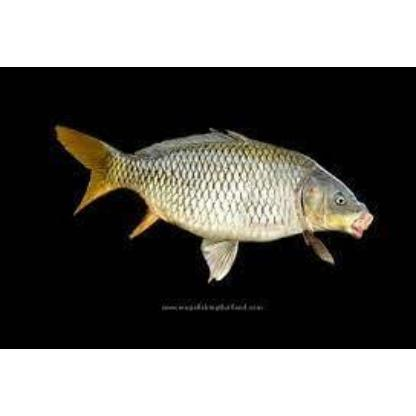ikan-mas: (58, 122, 372, 266)
